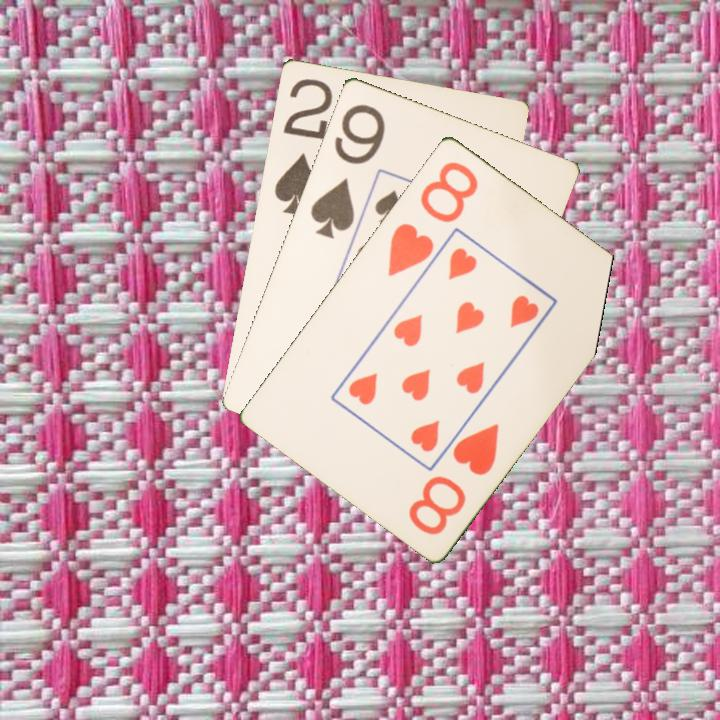2s: (270, 74, 336, 218)
8h: (383, 157, 482, 279), (404, 419, 502, 538)
9s: (306, 99, 388, 242)
